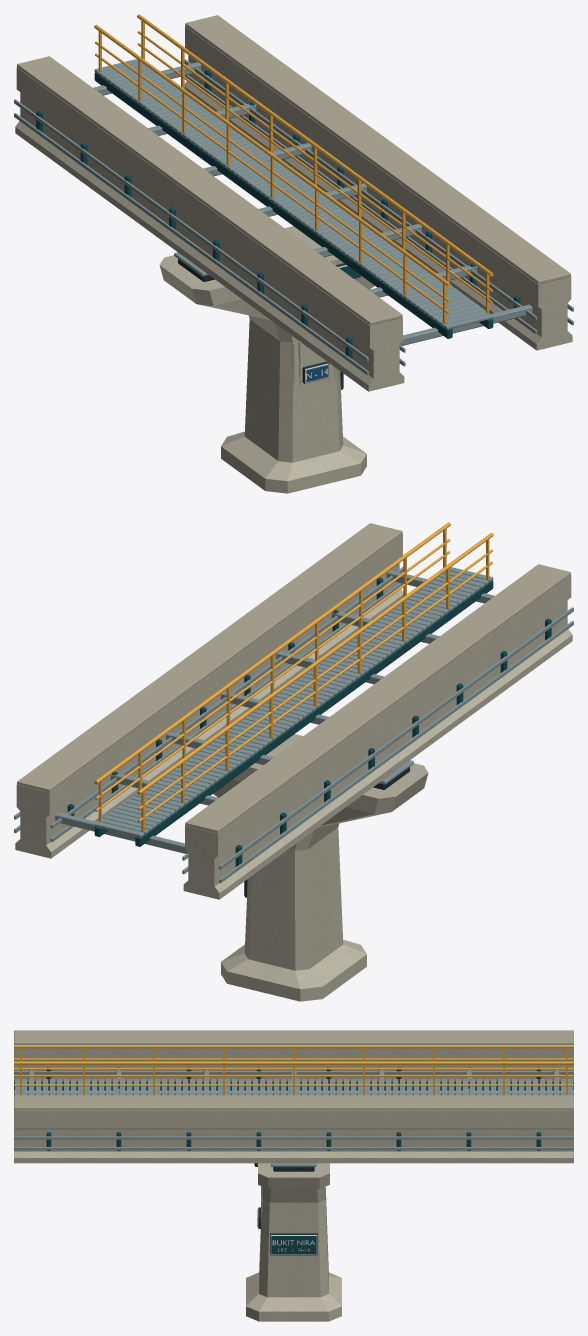
3 views of the same model, one above another, from view 1: azimuth 30°, elevation 25°; view 2: azimuth 150°, elevation 25°; view 3: azimuth 270°, elevation 25° (orthographic). The views are drawn at different scales.
Parts seen in each view (by area): view 1: Guide Beams, Wear Strips, Cast Hammerhead, Maintenance Grating, Escape Walk Rails, Conductor Faces, Maintenance Stringers, Cross Ties, Rail Insulators, Pier Identity; view 2: Guide Beams, Wear Strips, Cast Hammerhead, Maintenance Grating, Escape Walk Rails, Conductor Faces, Maintenance Stringers, Cross Ties, Rail Insulators; view 3: Guide Beams, Wear Strips, Escape Walk Rails, Cast Hammerhead, Maintenance Grating, Conductor Faces, Maintenance Stringers, Pier Identity, Rail Insulators, Cross Ties.
Part boxes in pixels (<box>): Guide Beams: <box>15,26,572,391</box>; Wear Strips: <box>17,15,570,325</box>; Cast Hammerhead: <box>159,226,374,493</box>; Maintenance Grating: <box>94,59,493,329</box>; Escape Walk Rails: <box>94,14,493,324</box>; Conductor Faces: <box>14,59,573,375</box>; Maintenance Stringers: <box>94,72,493,338</box>; Cross Ties: <box>93,62,532,345</box>; Rail Insulators: <box>36,69,520,358</box>; Pier Identity: <box>302,263,362,389</box>; Guide Beams: <box>15,534,572,899</box>; Wear Strips: <box>17,523,570,833</box>; Cast Hammerhead: <box>213,734,428,1001</box>; Maintenance Grating: <box>94,567,493,837</box>; Escape Walk Rails: <box>94,522,493,832</box>; Conductor Faces: <box>14,567,573,883</box>; Maintenance Stringers: <box>94,580,493,846</box>; Cross Ties: <box>55,570,494,853</box>; Rail Insulators: <box>67,577,551,866</box>; Guide Beams: <box>14,1048,573,1163</box>; Wear Strips: <box>14,1030,573,1110</box>; Escape Walk Rails: <box>14,1045,573,1095</box>; Cast Hammerhead: <box>246,1163,341,1321</box>; Maintenance Grating: <box>14,1079,573,1095</box>; Conductor Faces: <box>14,1071,573,1150</box>; Maintenance Stringers: <box>14,1081,573,1090</box>; Pier Identity: <box>254,1163,317,1255</box>; Rail Insulators: <box>46,1067,541,1150</box>; Cross Ties: <box>28,1069,559,1095</box>.
Bounding box in the file's own units: 6.18 × 7.84 × 16.
10 materials, 1 textured.
